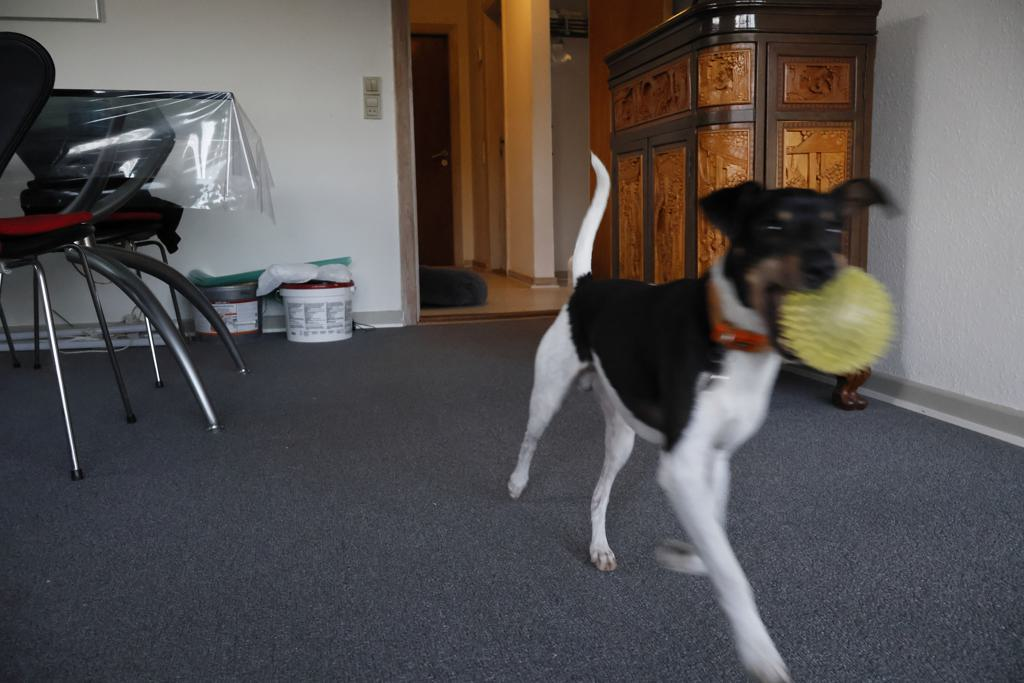Dog: (495, 133, 915, 683)
